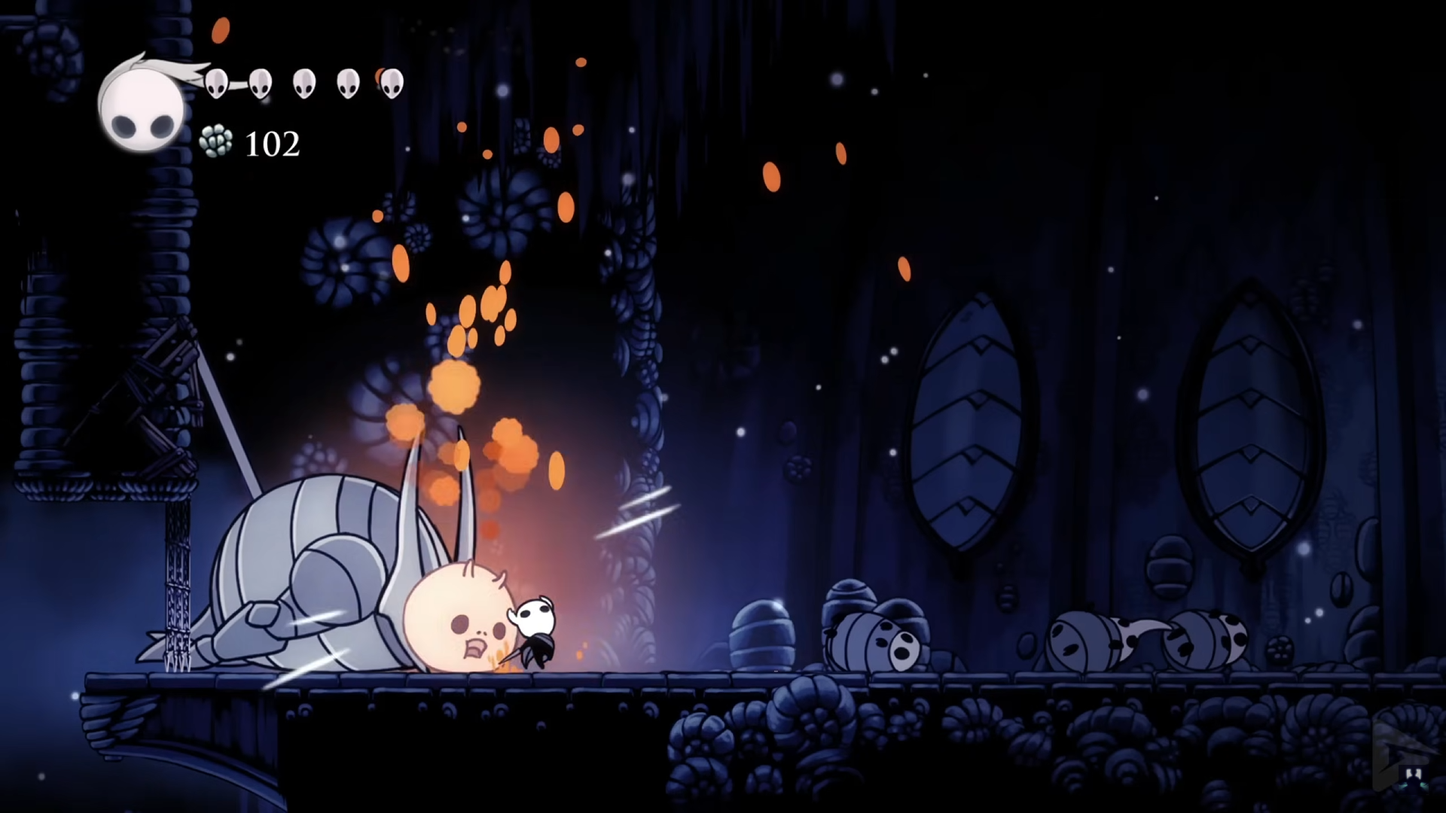HK: (508, 593, 560, 676)
